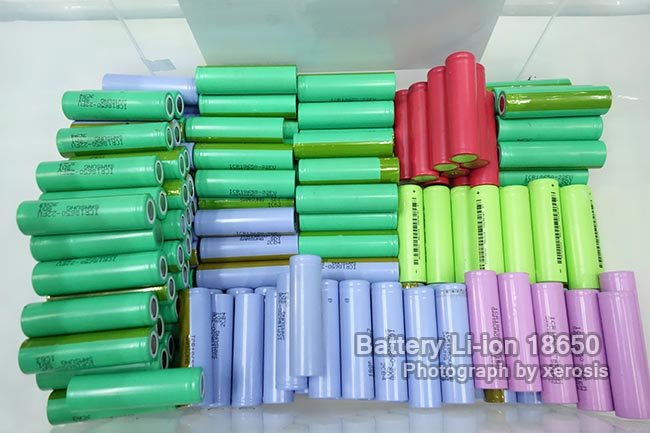Battery: (18, 289, 160, 340), (65, 366, 206, 416), (29, 247, 170, 296), (15, 191, 159, 237), (33, 152, 166, 189), (288, 252, 327, 378), (526, 177, 570, 285), (229, 288, 267, 412), (442, 49, 480, 168), (497, 82, 617, 119), (60, 88, 179, 124), (496, 137, 608, 172), (192, 62, 298, 98), (297, 68, 399, 105), (420, 184, 456, 288), (466, 182, 506, 275), (293, 182, 401, 214), (189, 140, 296, 171)
